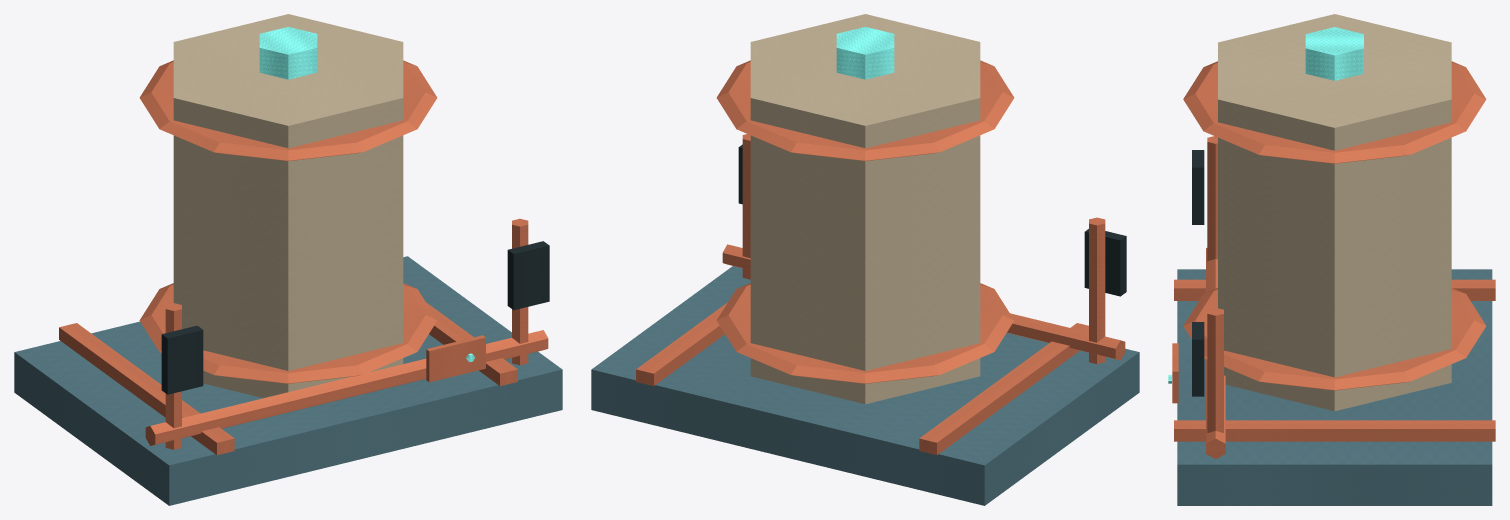
File: atlas100-s046-a04.lod1.glb
3 renders of one model, left to right at view 1: azimuth 30°, elevation 25°; view 2: azimuth 150°, elevation 25°; view 3: azimuth 270°, elevation 25°, orthographic.
Parts seen in each view (by area): view 1: atlas100-s046-a04:part-003, atlas100-s046-a04:part-000, atlas100-s046-a04:part-005, atlas100-s046-a04:part-011, atlas100-s046-a04:part-004, atlas100-s046-a04:part-001, atlas100-s046-a04:part-006, atlas100-s046-a04:part-010, atlas100-s046-a04:part-008, atlas100-s046-a04:part-012, atlas100-s046-a04:part-002, atlas100-s046-a04:part-009 (+1 smaller); view 2: atlas100-s046-a04:part-003, atlas100-s046-a04:part-000, atlas100-s046-a04:part-005, atlas100-s046-a04:part-004, atlas100-s046-a04:part-001, atlas100-s046-a04:part-011, atlas100-s046-a04:part-006, atlas100-s046-a04:part-002, atlas100-s046-a04:part-007, atlas100-s046-a04:part-008, atlas100-s046-a04:part-009; view 3: atlas100-s046-a04:part-003, atlas100-s046-a04:part-000, atlas100-s046-a04:part-005, atlas100-s046-a04:part-004, atlas100-s046-a04:part-002, atlas100-s046-a04:part-006, atlas100-s046-a04:part-009, atlas100-s046-a04:part-001, atlas100-s046-a04:part-007, atlas100-s046-a04:part-011, atlas100-s046-a04:part-008, atlas100-s046-a04:part-010 (+1 smaller).
Boxes of the visible parts, x1,y1,x2,y2 form: atlas100-s046-a04:part-003: (173, 14, 403, 398); atlas100-s046-a04:part-000: (14, 256, 562, 505); atlas100-s046-a04:part-005: (139, 60, 437, 160); atlas100-s046-a04:part-011: (145, 330, 548, 445); atlas100-s046-a04:part-004: (139, 283, 437, 383); atlas100-s046-a04:part-001: (59, 323, 234, 455); atlas100-s046-a04:part-006: (259, 27, 317, 79); atlas100-s046-a04:part-010: (507, 241, 549, 310); atlas100-s046-a04:part-008: (161, 325, 203, 394); atlas100-s046-a04:part-012: (426, 335, 485, 382); atlas100-s046-a04:part-002: (426, 302, 517, 385); atlas100-s046-a04:part-009: (512, 218, 528, 365); atlas100-s046-a04:part-003: (750, 14, 980, 404); atlas100-s046-a04:part-000: (591, 266, 1139, 505); atlas100-s046-a04:part-005: (716, 60, 1014, 160); atlas100-s046-a04:part-004: (716, 283, 1014, 383); atlas100-s046-a04:part-001: (919, 323, 1088, 455); atlas100-s046-a04:part-011: (722, 244, 1125, 360); atlas100-s046-a04:part-006: (836, 27, 894, 79); atlas100-s046-a04:part-002: (636, 302, 727, 385); atlas100-s046-a04:part-007: (1089, 217, 1105, 363); atlas100-s046-a04:part-008: (1084, 229, 1126, 296); atlas100-s046-a04:part-009: (742, 134, 750, 279); atlas100-s046-a04:part-003: (1218, 14, 1451, 411); atlas100-s046-a04:part-000: (1177, 269, 1492, 505); atlas100-s046-a04:part-005: (1183, 61, 1486, 163); atlas100-s046-a04:part-004: (1183, 288, 1486, 390); atlas100-s046-a04:part-002: (1174, 420, 1495, 441); atlas100-s046-a04:part-006: (1305, 27, 1363, 80); atlas100-s046-a04:part-009: (1207, 307, 1223, 432); atlas100-s046-a04:part-001: (1174, 279, 1495, 300); atlas100-s046-a04:part-007: (1207, 136, 1217, 261); atlas100-s046-a04:part-011: (1206, 248, 1225, 458); atlas100-s046-a04:part-008: (1192, 150, 1204, 224); atlas100-s046-a04:part-010: (1192, 322, 1204, 396).
Bounding box in the file's own units: 2.64 × 2.31 × 1.87.
5 materials, 5 textured.
